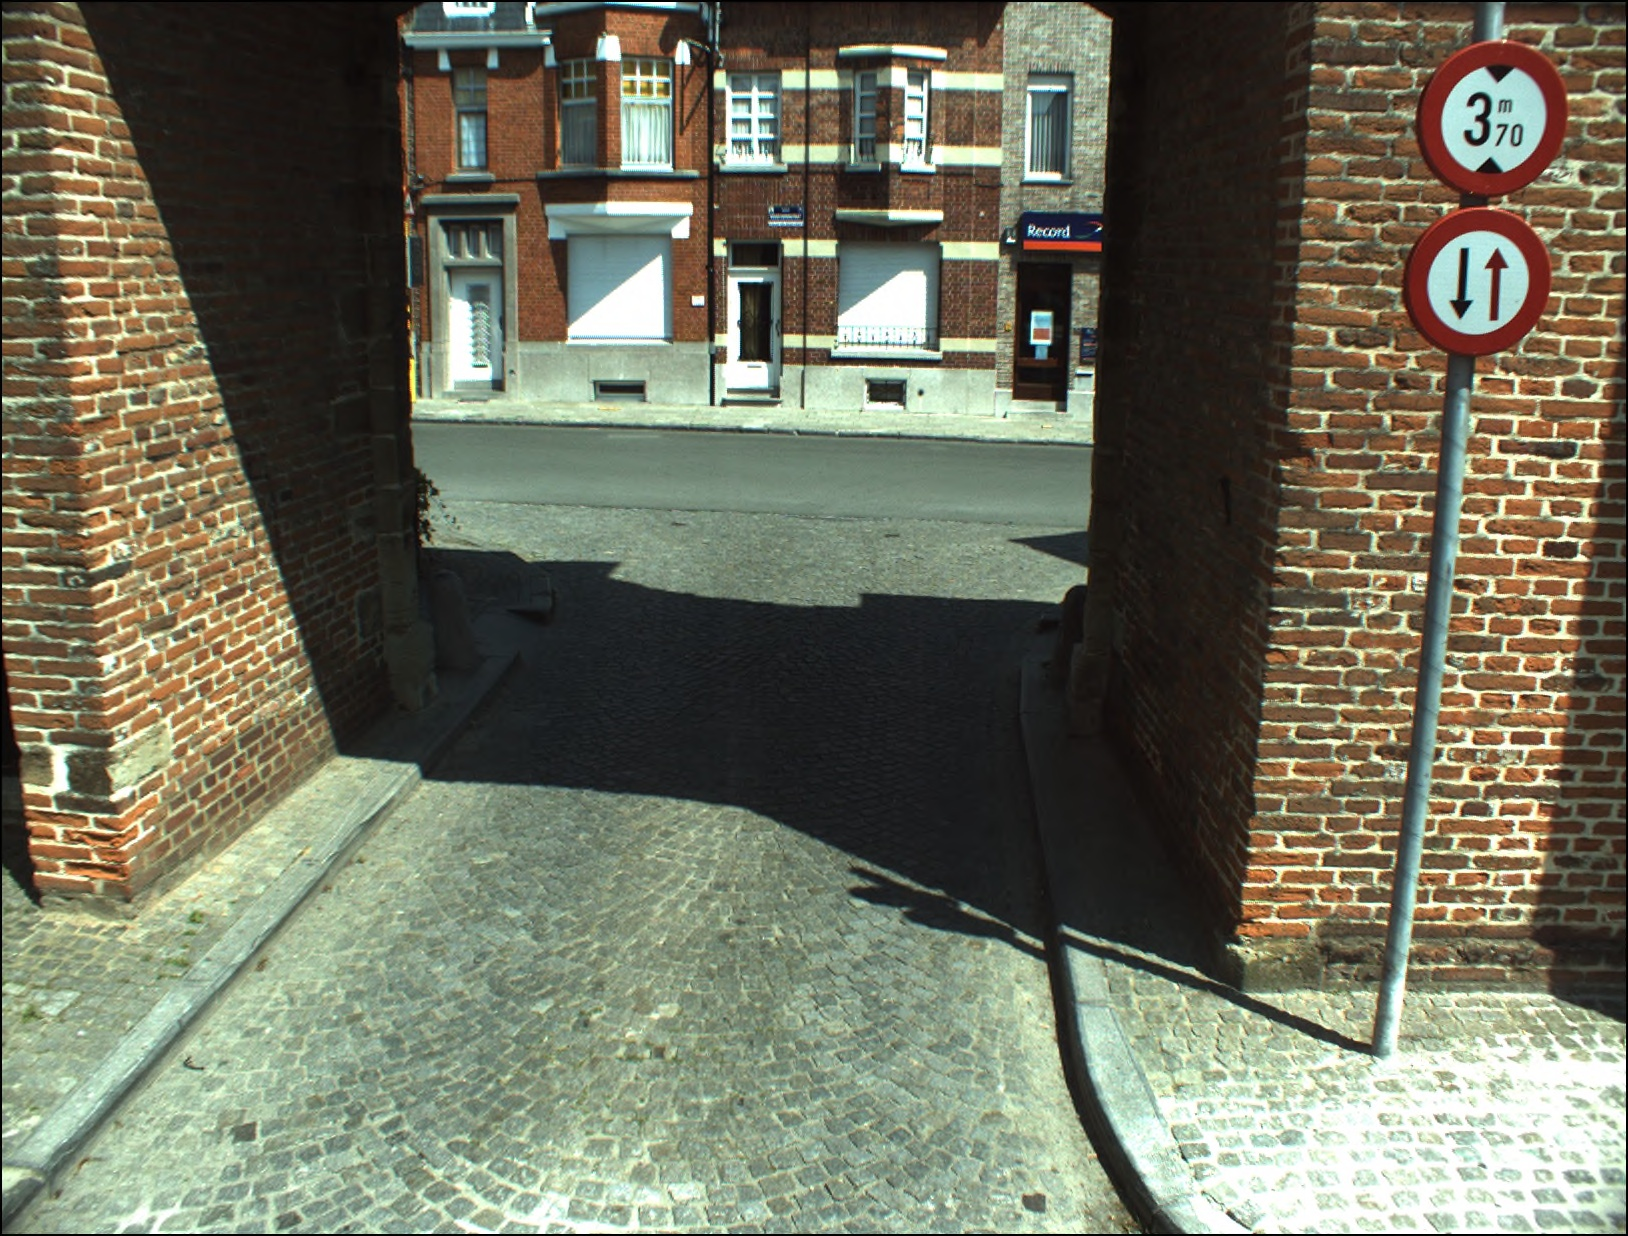roadnarrow2: (1409, 208, 1549, 351)
